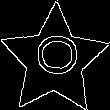O_W: (29, 38, 80, 83)
